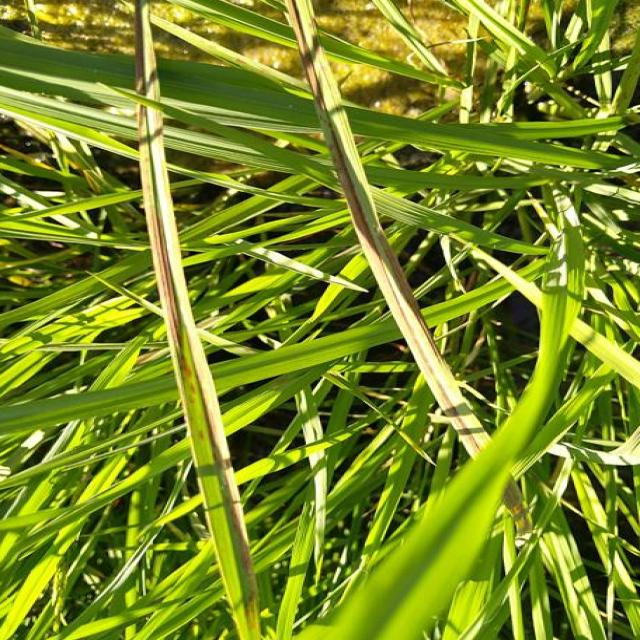Leaf Streak: (291, 0, 488, 456), (136, 0, 262, 640), (502, 478, 533, 548)
